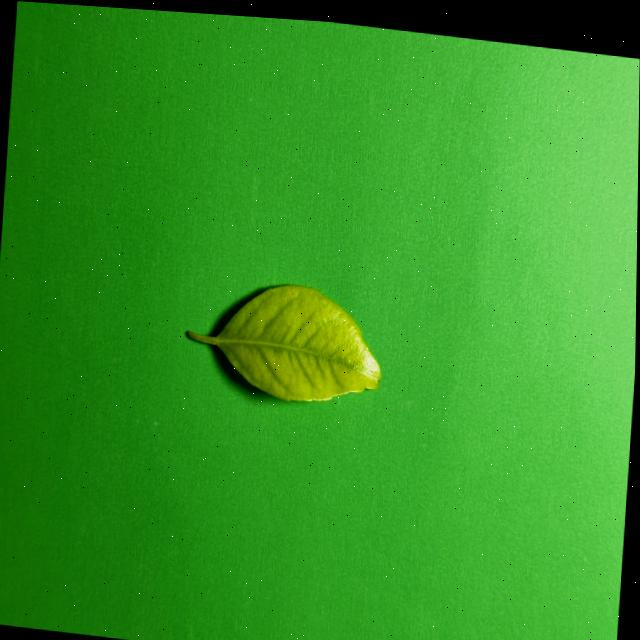greening: (186, 285, 380, 401)
